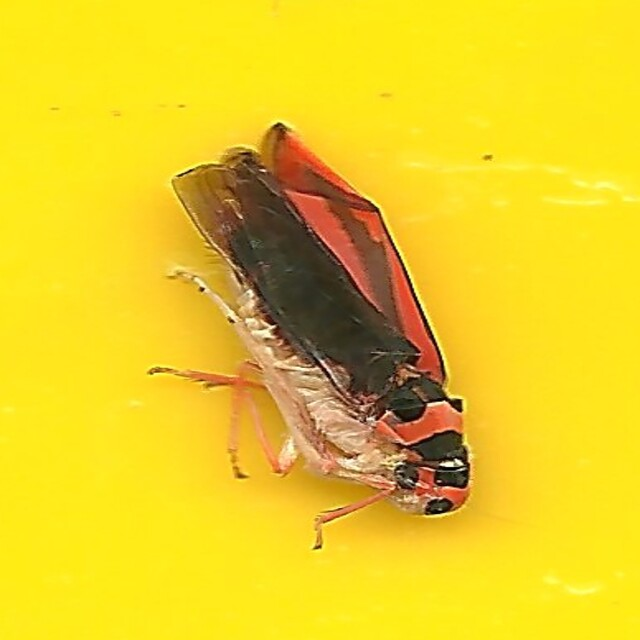Hemiptera: (165, 121, 475, 519)
